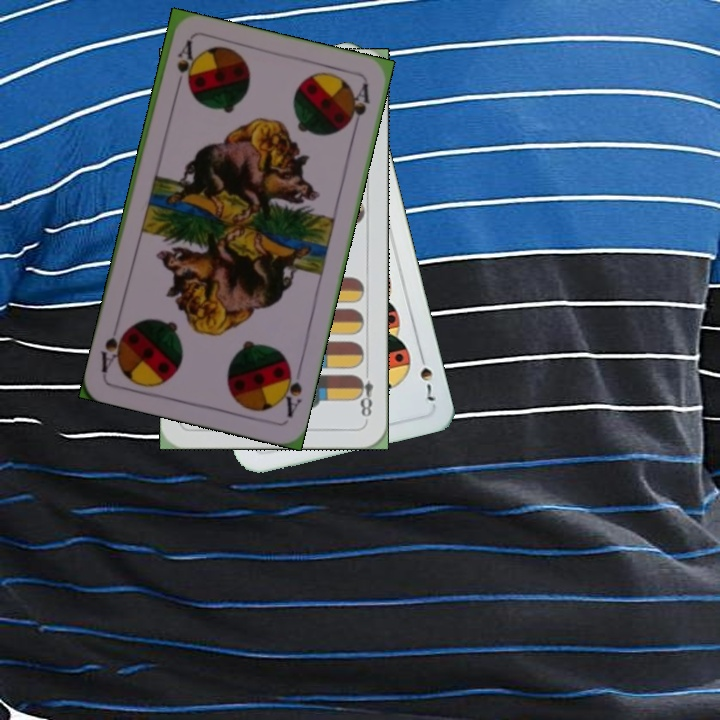E8: (353, 364, 376, 420)
S7: (415, 348, 437, 404)
SA: (275, 360, 305, 420), (171, 37, 196, 95)
